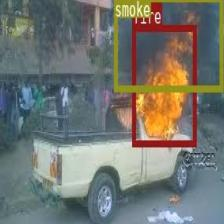fire: (131, 24, 196, 146)
smoke: (113, 0, 222, 91)
